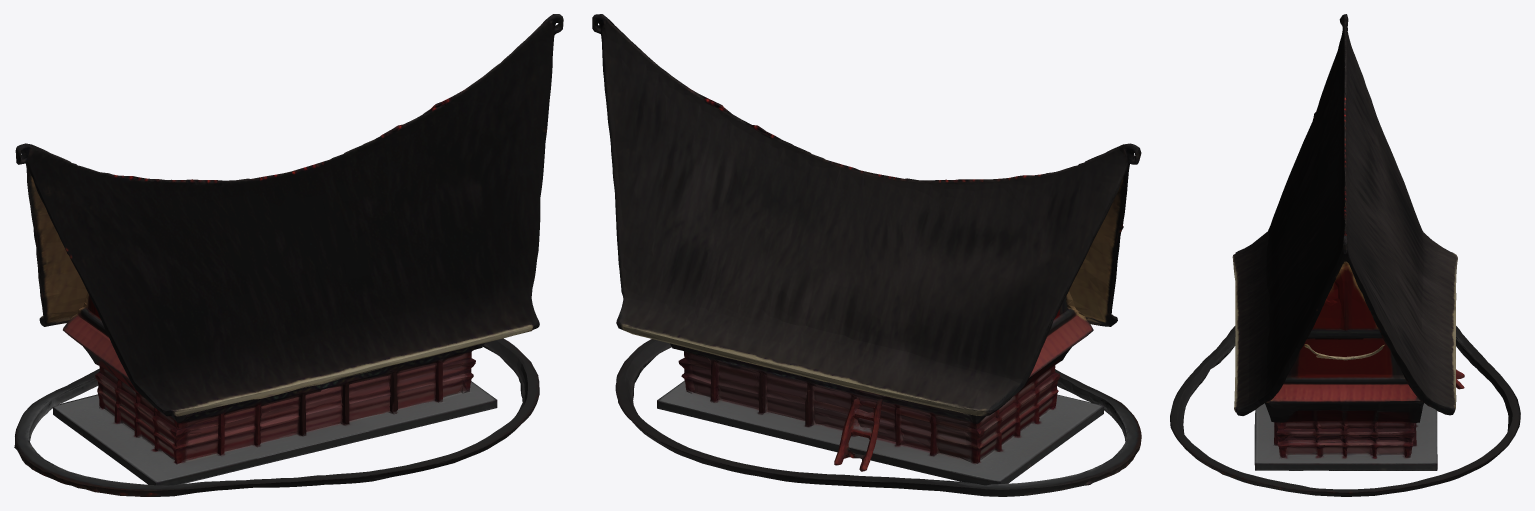
The picture shows the model from 3 angles, left to right: view 1: azimuth 30°, elevation 25°; view 2: azimuth 150°, elevation 25°; view 3: azimuth 270°, elevation 25°; orthographic projection. The views are drawn at different scales.
Visible parts, largest first — view 1: world; view 2: world; view 3: world.
Boxes of the visible parts, box(x1,y1,x2,y2) form: world: box(14, 14, 563, 496); world: box(592, 14, 1141, 496); world: box(1170, 14, 1520, 496).
Bounding box in the file's own units: 1 × 0.5752 × 0.651.
1 material, 1 textured.
